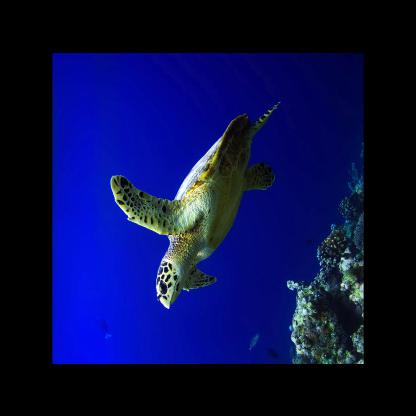turtle: (110, 98, 284, 308)
